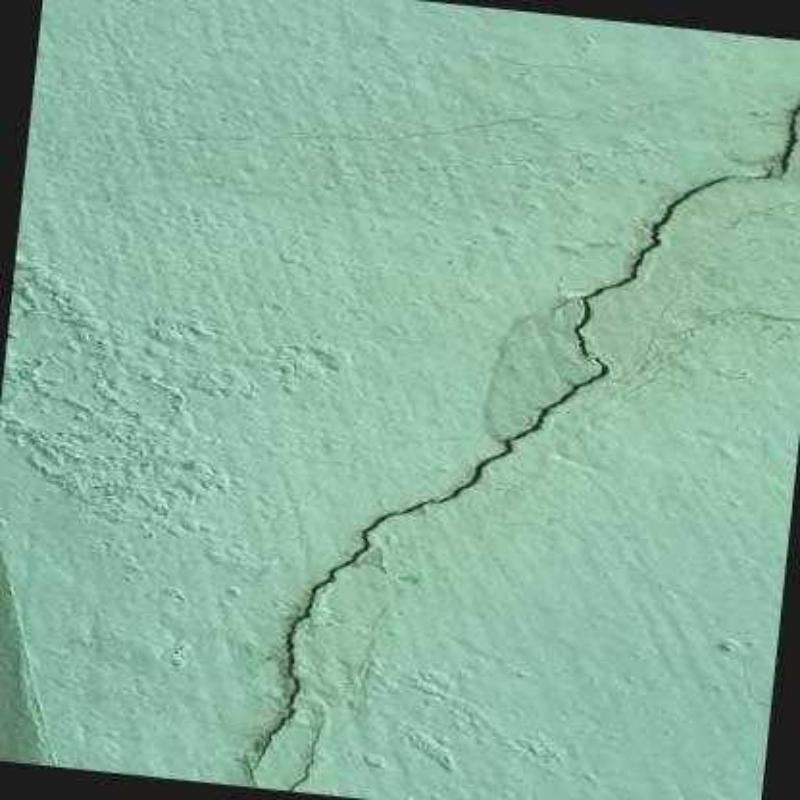crack: (244, 356, 610, 789), (571, 165, 775, 360), (281, 701, 322, 791), (778, 102, 800, 178)
